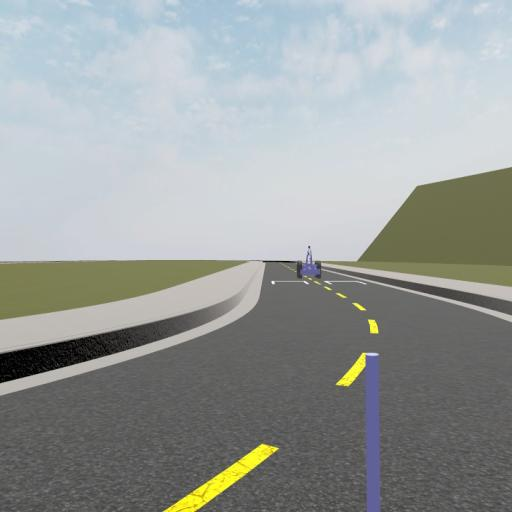ERP-42: (296, 243, 322, 280)
